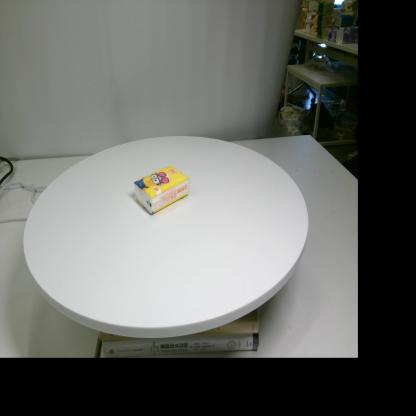Tissue: (133, 166, 190, 214)
